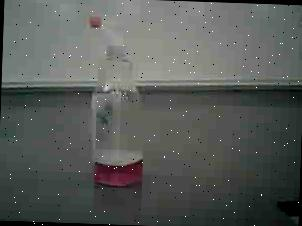hazard: (77, 10, 160, 196)
